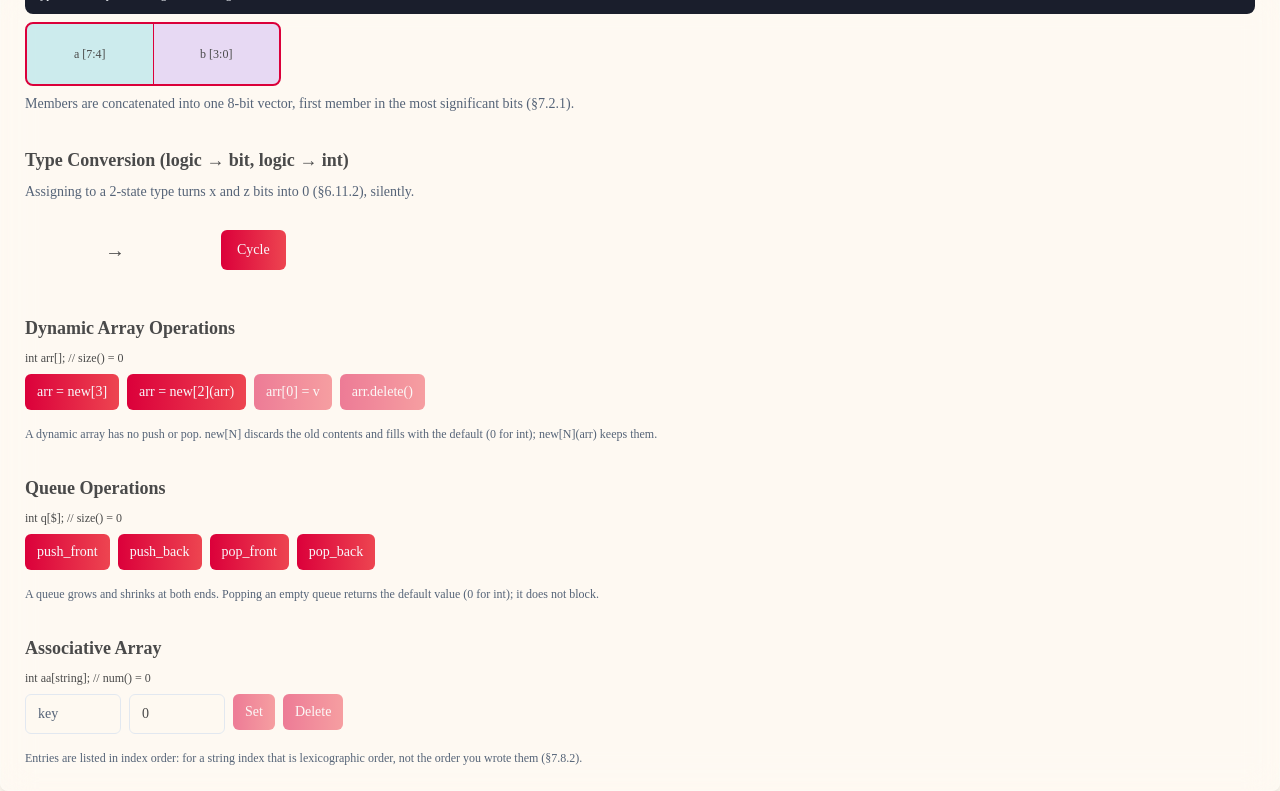
Test: SystemVerilogDataTypesAnimation: rules from the models › queue pops on an empty queue return the default instead of blocking (§7.10.2.4)
(page scrolled)
Click the button "pop_front" at (249, 552), box [210,534,289,570]
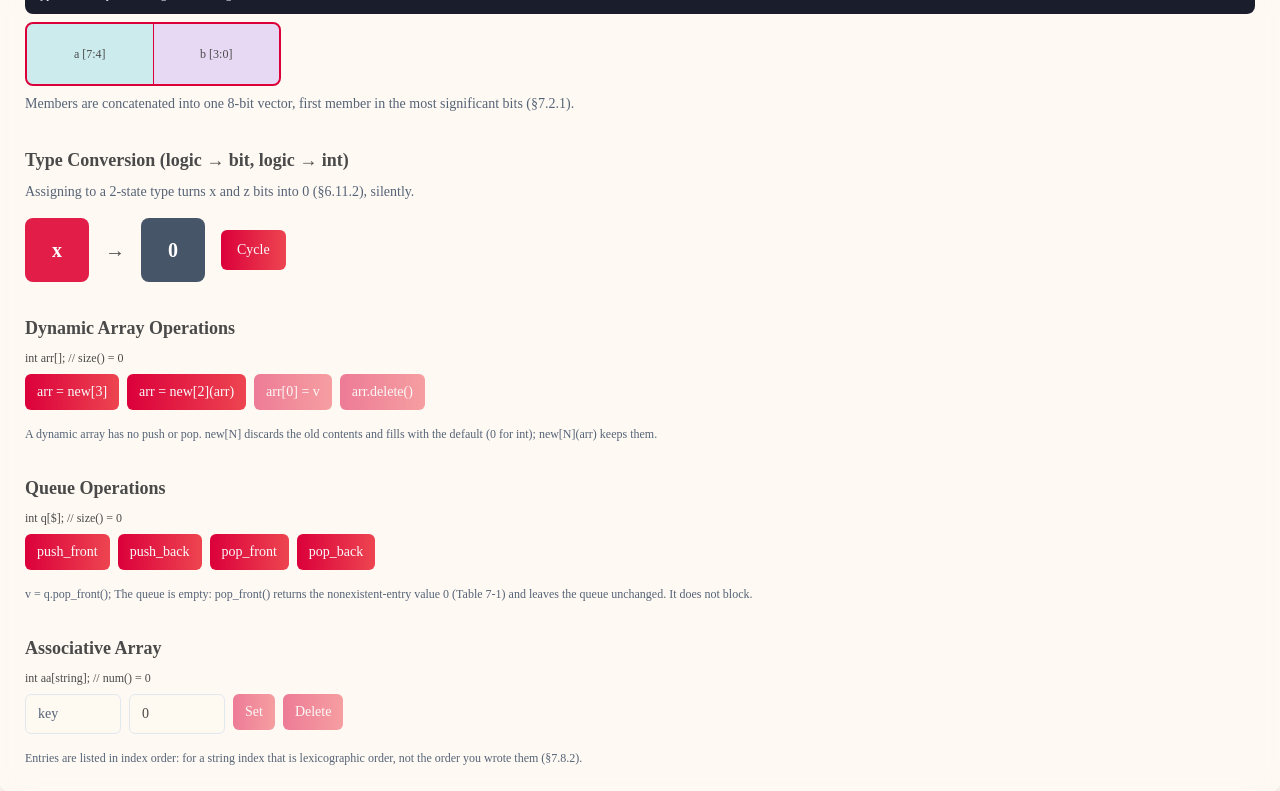
Result: the text "The queue is empty: pop_front() returns" is shown at [114,587,752,601]
